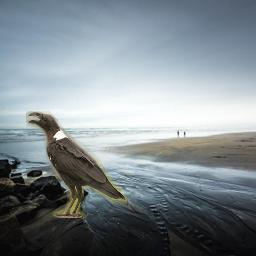Crow: (26, 111, 127, 218)
